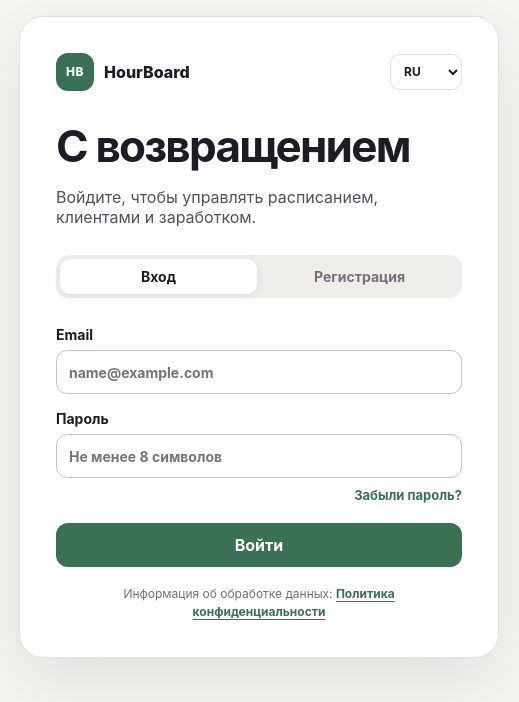
Test: LoginPage › switches the interface language
This screenshot has width=519, height=702.
Select "PL" in the dropdown named "Язык": (426, 72) [390,54,462,90]
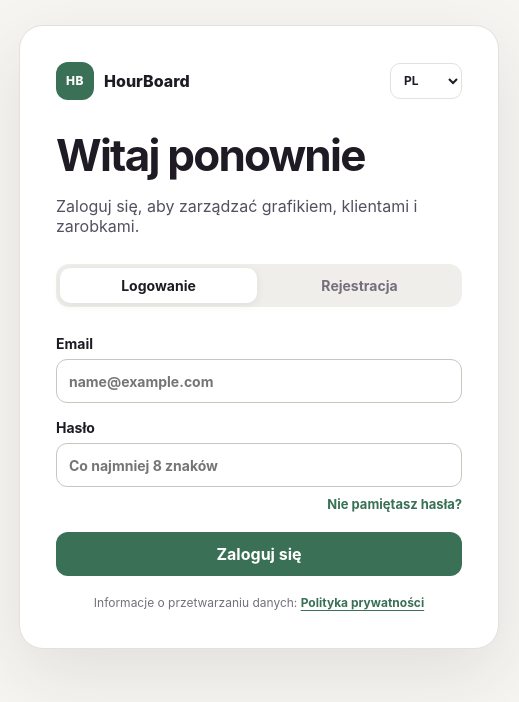
Result: the heading "Witaj ponownie" is shown at [56,128,365,182]
